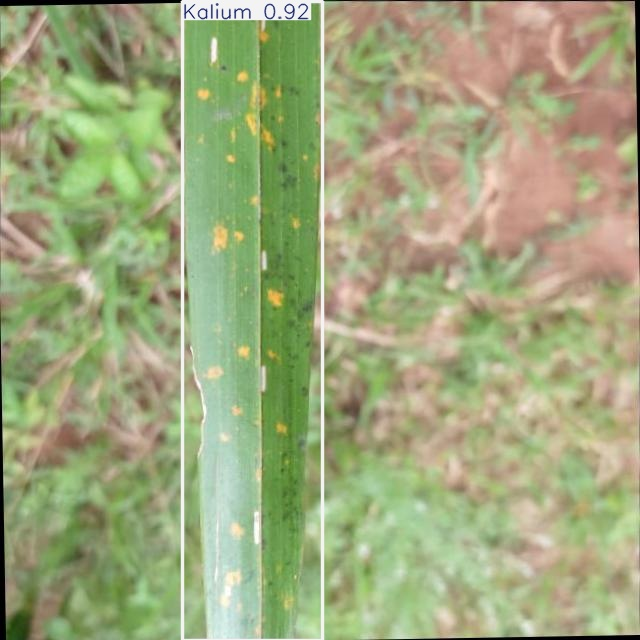Kalium: (182, 2, 323, 640)
